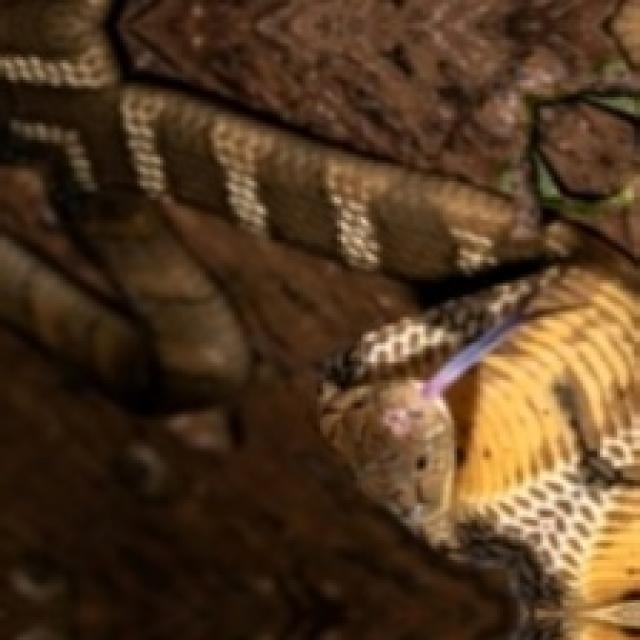king cobra: (320, 269, 637, 589)
